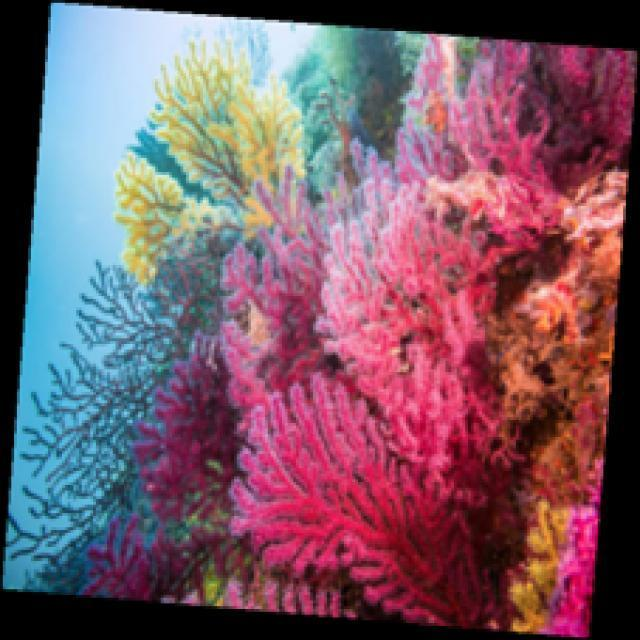Healthy: (79, 37, 640, 620), (112, 35, 311, 283), (498, 172, 632, 506), (545, 503, 606, 638), (504, 509, 568, 636)
